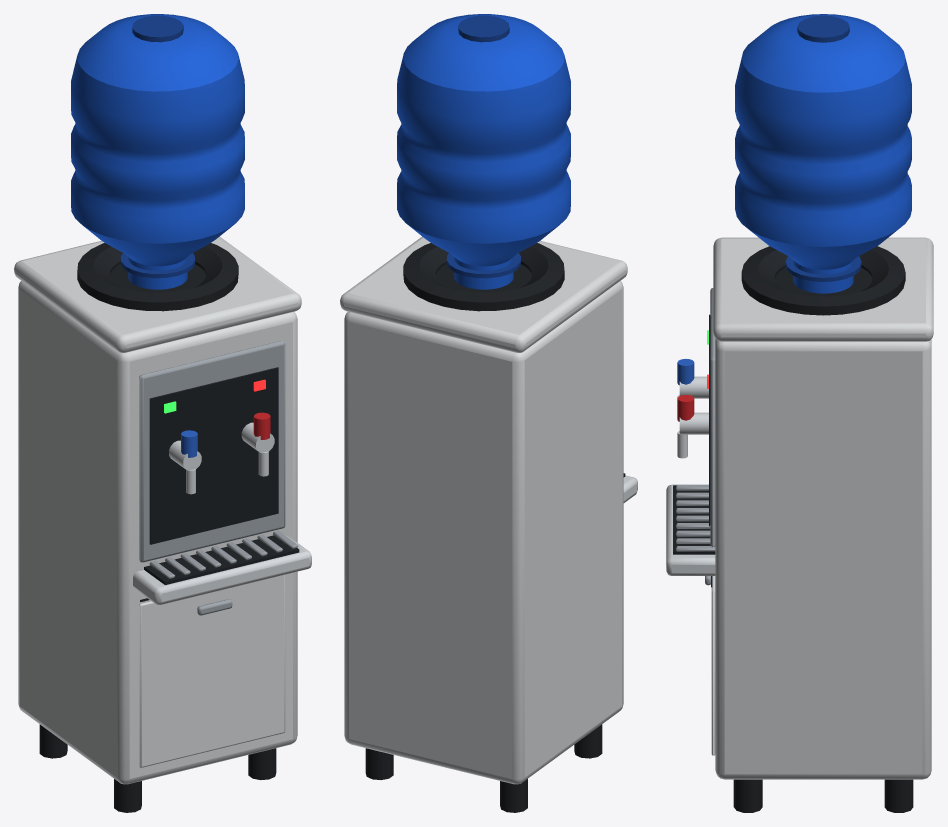
Rendered from cooler.glb.
3 renders of one model, left to right at view 1: azimuth 30°, elevation 25°; view 2: azimuth 150°, elevation 25°; view 3: azimuth 270°, elevation 25°, orthographic.
Visible parts, largest first — view 1: cooler_cooler_body, cooler_bottle, cooler_cooler_dark, cooler_cooler_grey, cooler_cooler_chrome, cooler_bottle_cap; view 2: cooler_cooler_body, cooler_bottle, cooler_cooler_dark, cooler_bottle_cap; view 3: cooler_cooler_body, cooler_bottle, cooler_cooler_dark, cooler_cooler_grey, cooler_cooler_chrome, cooler_bottle_cap.
Boxes of the visible parts, left/top/right/bottom form: cooler_cooler_body: left=14, top=236, right=301, bottom=784; cooler_bottle: left=71, top=14, right=244, bottom=289; cooler_cooler_dark: left=39, top=243, right=299, bottom=812; cooler_cooler_grey: left=139, top=341, right=298, bottom=615; cooler_cooler_chrome: left=133, top=422, right=311, bottom=604; cooler_bottle_cap: left=120, top=15, right=195, bottom=278; cooler_cooler_body: left=340, top=236, right=627, bottom=784; cooler_bottle: left=397, top=14, right=570, bottom=289; cooler_cooler_dark: left=365, top=243, right=625, bottom=812; cooler_bottle_cap: left=446, top=15, right=521, bottom=278; cooler_cooler_body: left=711, top=237, right=933, bottom=779; cooler_bottle: left=735, top=14, right=911, bottom=293; cooler_cooler_dark: left=673, top=246, right=913, bottom=812; cooler_cooler_grey: left=676, top=288, right=715, bottom=585; cooler_cooler_chrome: left=666, top=376, right=715, bottom=575; cooler_bottle_cap: left=785, top=15, right=861, bottom=281.
Bounding box in the file's own units: 0.33 × 1.26 × 0.408.
